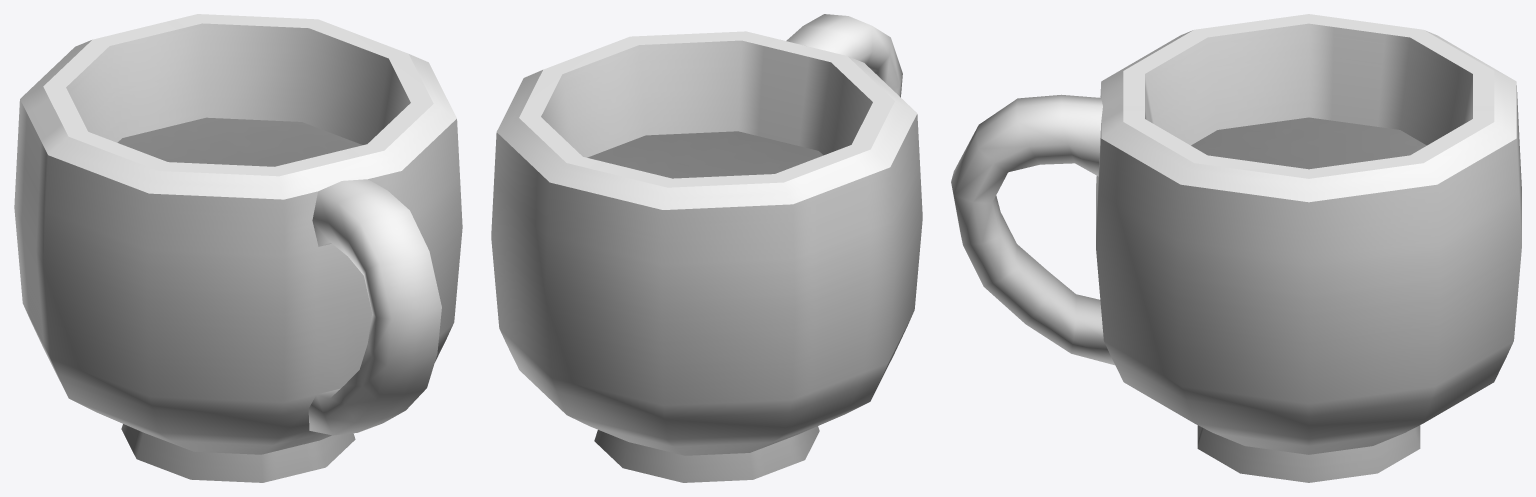
The model's file is Coffee.fbx.
3 views of the same model, side by side, from view 1: azimuth 30°, elevation 25°; view 2: azimuth 150°, elevation 25°; view 3: azimuth 270°, elevation 25° (orthographic). The views are drawn at different scales.
Parts seen in each view (by area): view 1: Coffee; view 2: Coffee; view 3: Coffee.
Boxes of the visible parts, left/top/right/bottom form: Coffee: left=14, top=14, right=462, bottom=482; Coffee: left=491, top=14, right=922, bottom=482; Coffee: left=951, top=14, right=1521, bottom=482.
Size of the model in its own units: 0.4738 by 0.3934 by 0.6039.
